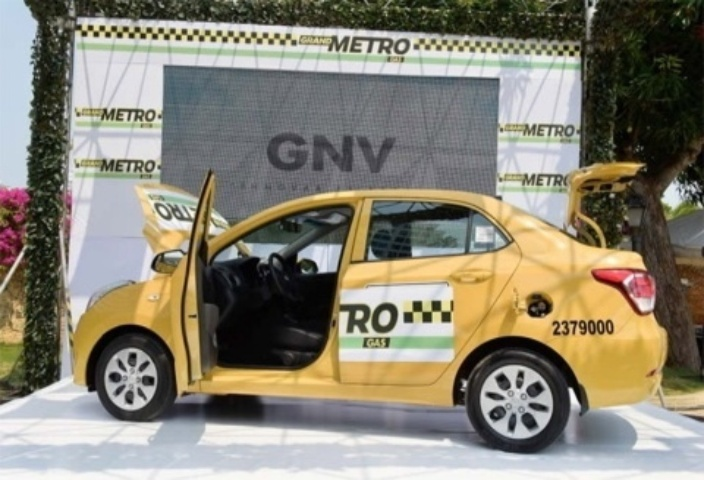taxi: (77, 177, 687, 452)
